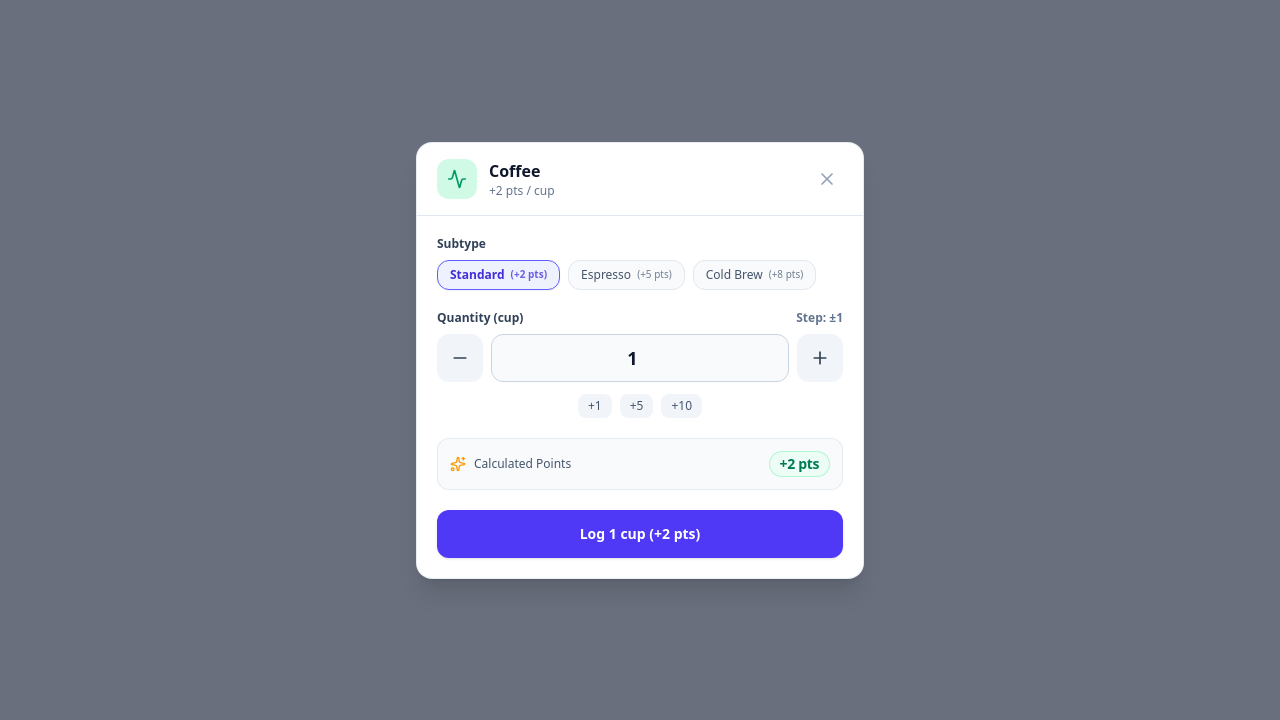
Scenario: QuantityStepperModal › updates effective points and calculated points preview when a Subtype is selected
The width and height of the screenshot is (1280, 720).
Expected: the button with test id "quantity-submit-button" reads "Log 1 cup (+2 pts)", [437,510,843,558]
# Click Espresso subtype (+5 pts override)
Click the button with test id "subtype-option-sub-espresso". click: coordinates (626, 274)
box: [568,260,685,290]
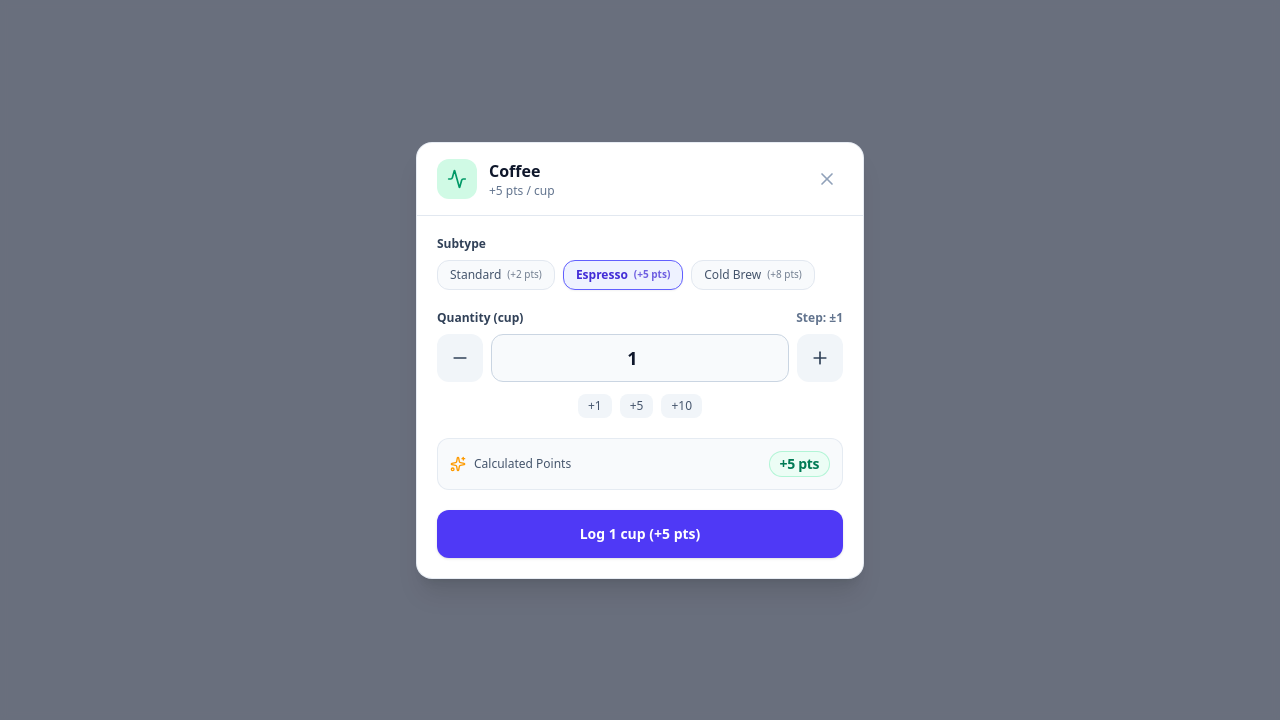
Result: the button with test id "quantity-submit-button" reads "Log 1 cup (+5 pts)" at [437,510,843,558]
Replace the text in the number field with test id "quantity-input" with "3". click: coordinates (640, 358)
box: [491,334,789,382]
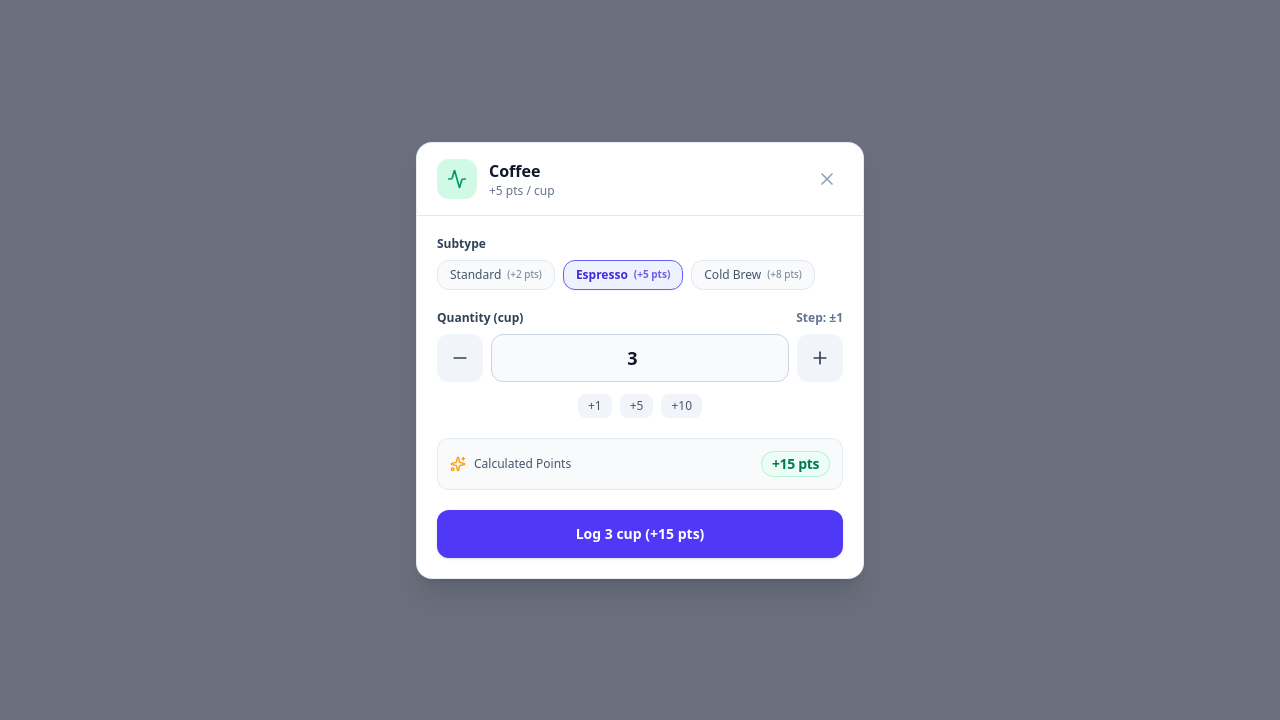
Result: the button with test id "quantity-submit-button" reads "Log 3 cup (+15 pts)" at [437,510,843,558]
Click the button with test id "subtype-option-none". click: coordinates (496, 274)
box: [437,260,555,290]
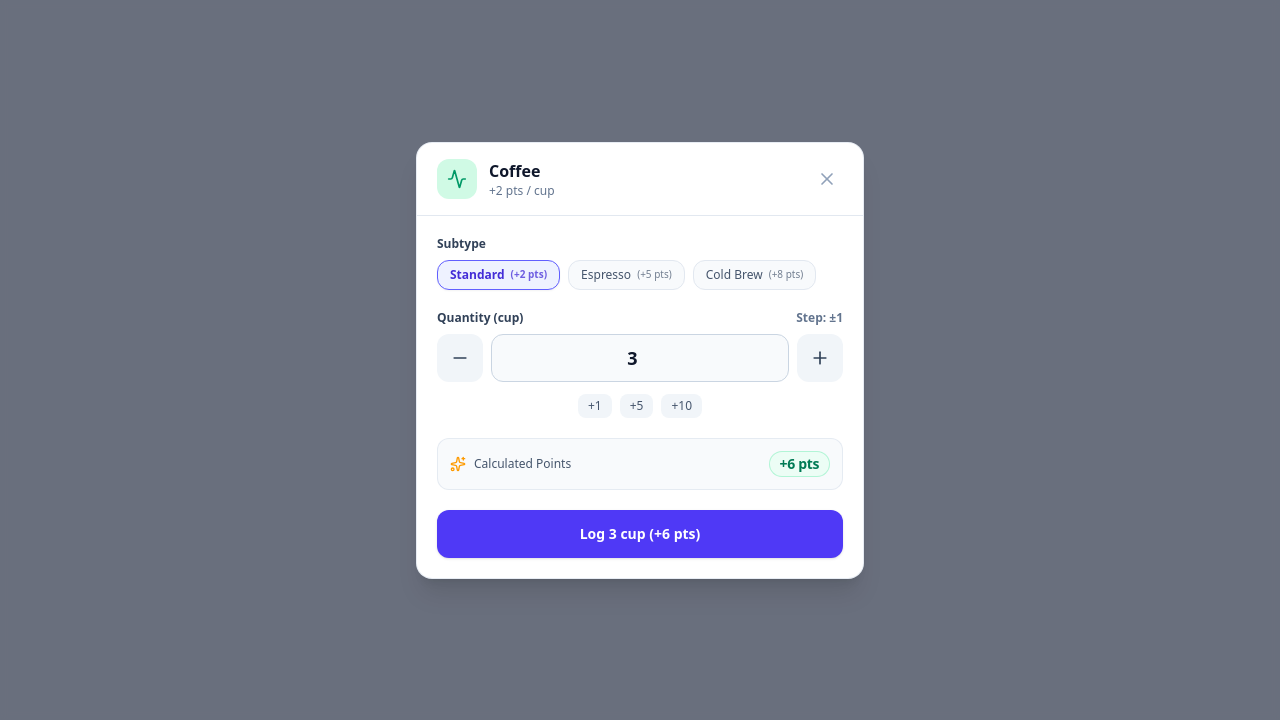
Result: the button with test id "quantity-submit-button" reads "Log 3 cup (+6 pts)" at [437,510,843,558]
